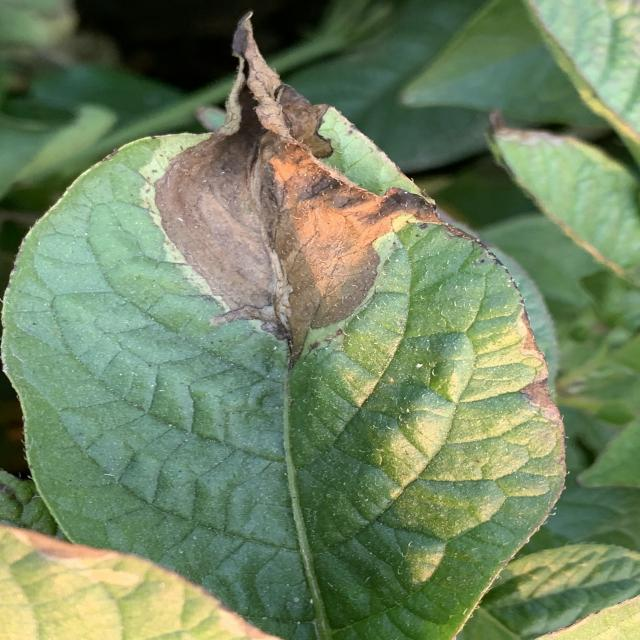lateblight: (155, 16, 440, 361)
